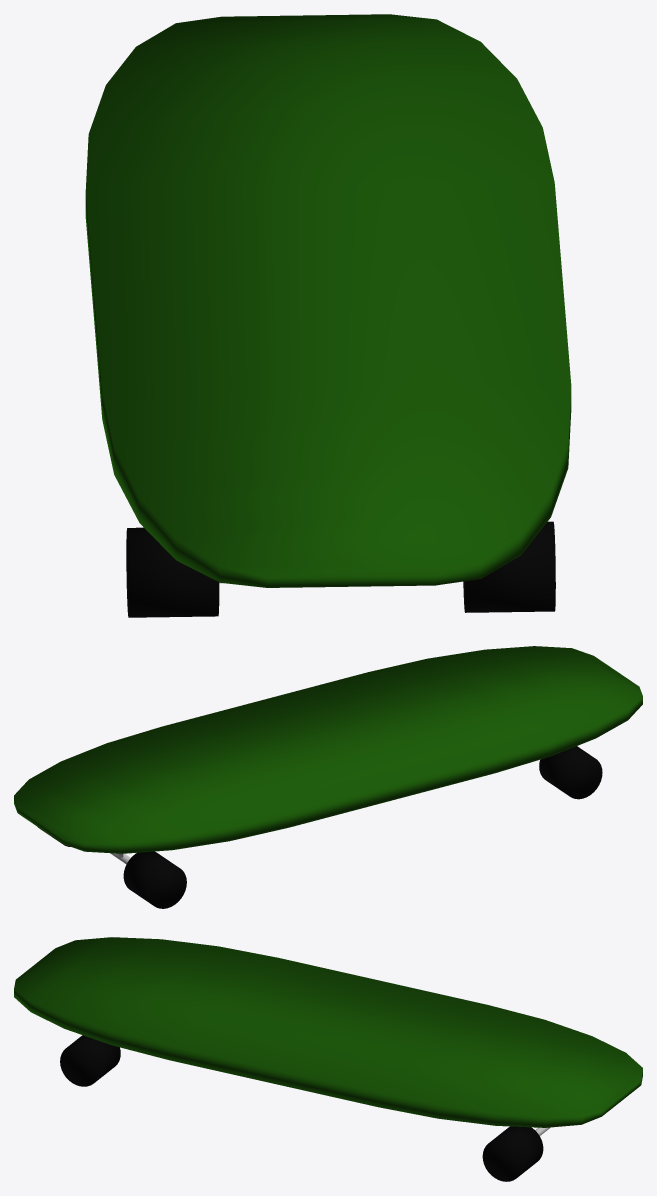
File: skate_board.fbx
3 renders of one model, top to bottom at view 1: azimuth 30°, elevation 25°; view 2: azimuth 150°, elevation 25°; view 3: azimuth 270°, elevation 25°, orthographic. The views are drawn at different scales.
Parts seen in each view (by area): view 1: Cylinder.012; view 2: Cylinder.012; view 3: Cylinder.012.
Part boxes in pixels (bbox=[...]): Cylinder.012: bbox=[85, 14, 571, 617]; Cylinder.012: bbox=[14, 646, 642, 908]; Cylinder.012: bbox=[14, 937, 642, 1181].
Size of the model in its own units: 44.7 by 7.56 by 64.6.
